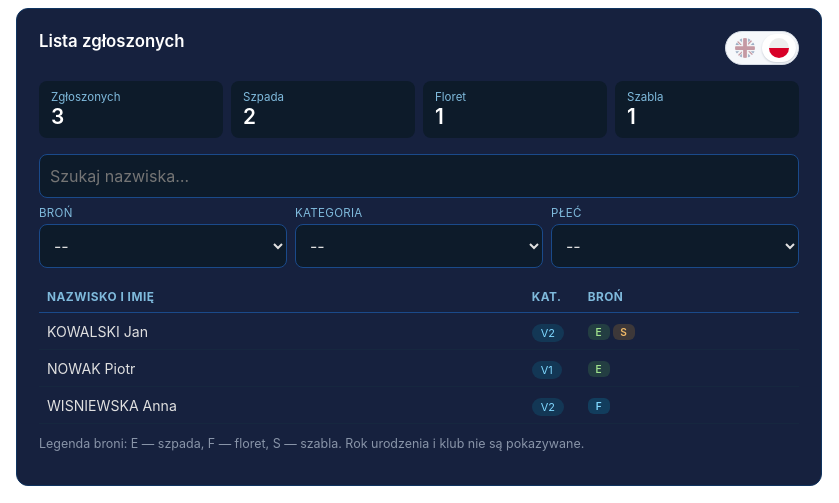
Test: EntryList › filters by weapon
Expected: the text "KOWALSKI Jan" is shown, [39,312,524,350]
Select "Floret" in the dropdown named "weaponFilter": (163,246) [39,224,287,268]
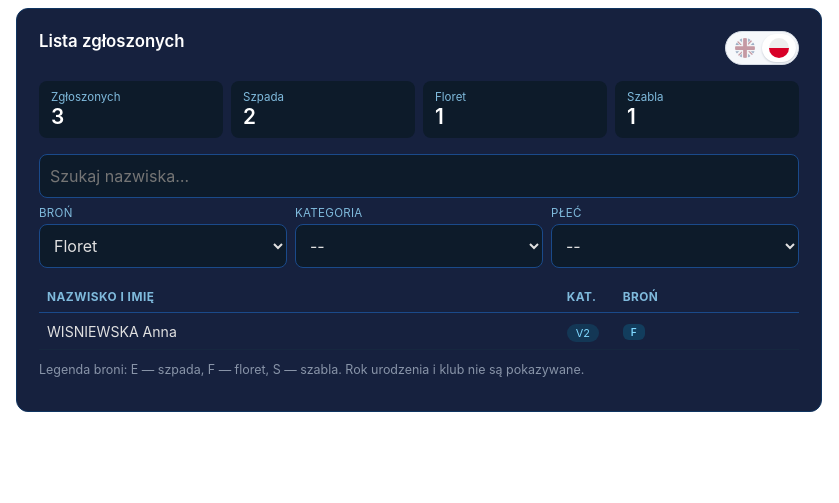
Expected: the text "WISNIEWSKA Anna" is shown, [39,312,559,350]
Expected: the text "KOWALSKI Jan" is gone
Expected: the text "NOWAK Piotr" is gone
